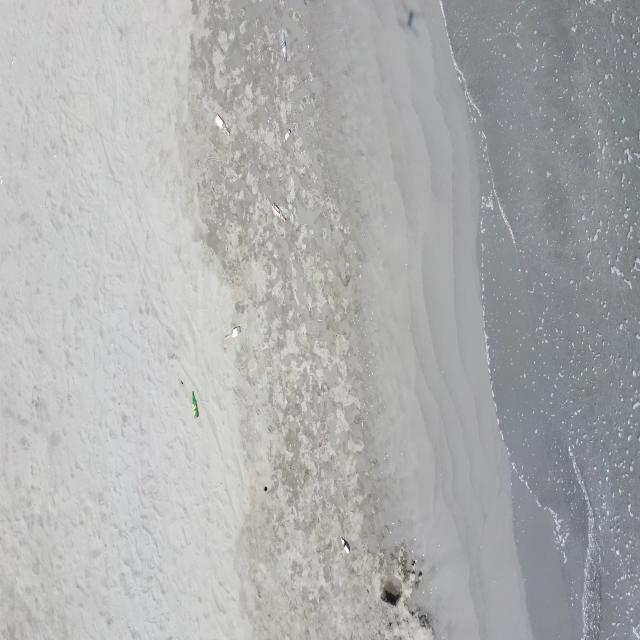glass: (214, 113, 231, 137), (270, 202, 287, 224), (224, 325, 241, 341), (280, 33, 287, 63), (191, 392, 199, 418), (340, 537, 350, 555), (282, 128, 292, 143)
